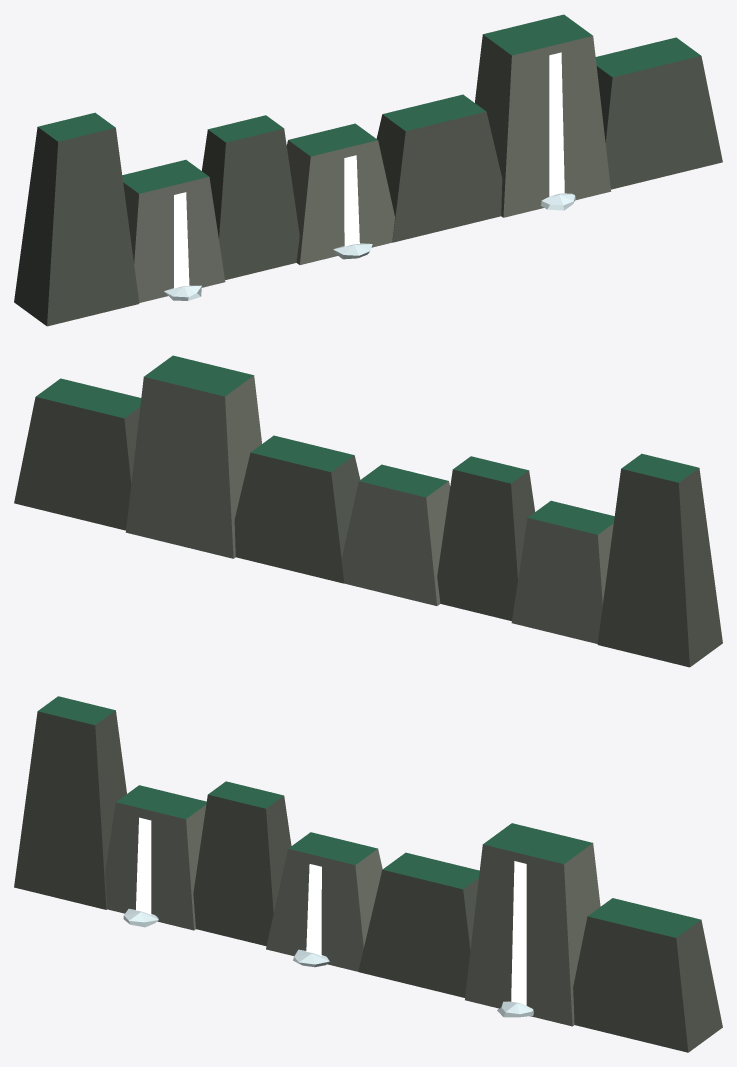
Rendered from W3_Far_Waterfalls.fbx.
3 views of the same model, one above another, from view 1: azimuth 30°, elevation 25°; view 2: azimuth 150°, elevation 25°; view 3: azimuth 330°, elevation 25° (orthographic).
Visible parts, largest first — view 1: W3_Far_Waterfalls; view 2: W3_Far_Waterfalls; view 3: W3_Far_Waterfalls.
Boxes of the visible parts, x1,y1,x2,y2 form: W3_Far_Waterfalls: (14,14,722,326); W3_Far_Waterfalls: (14,355,722,667); W3_Far_Waterfalls: (14,696,722,1052).
Bounding box in the file's own units: 437 × 109 × 55.76.
